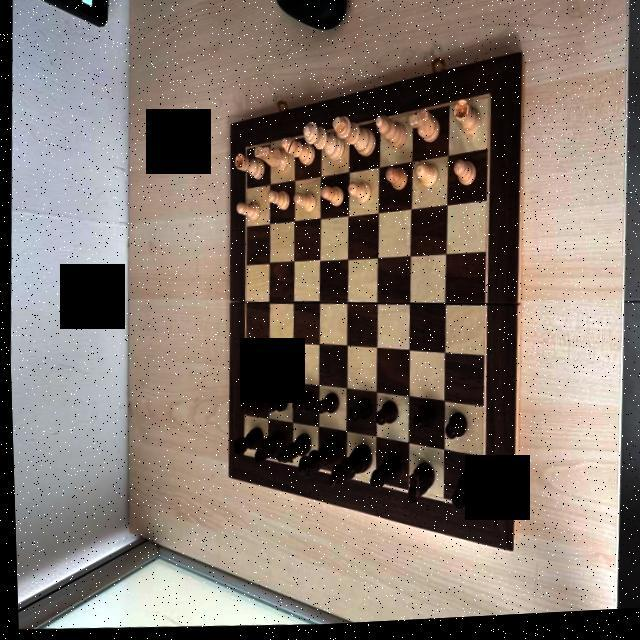chess-table-corners: (480, 94, 490, 107), (472, 508, 482, 520), (242, 145, 247, 156), (238, 454, 242, 459)
